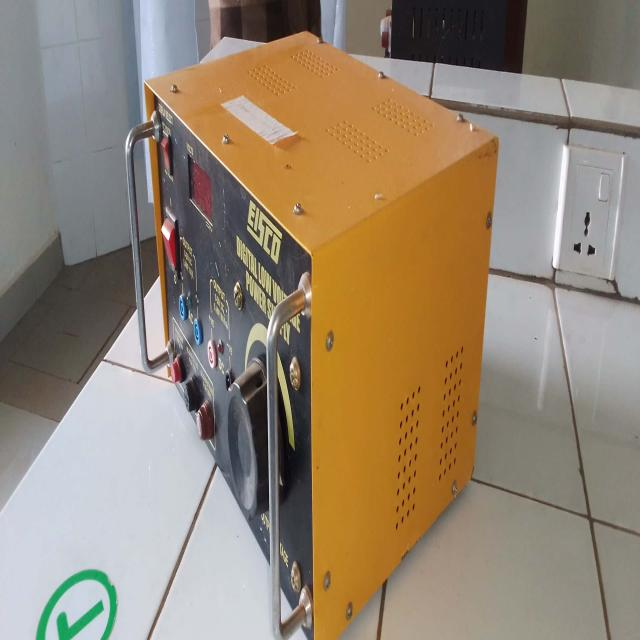Digital Power Supply: (124, 25, 506, 629)
